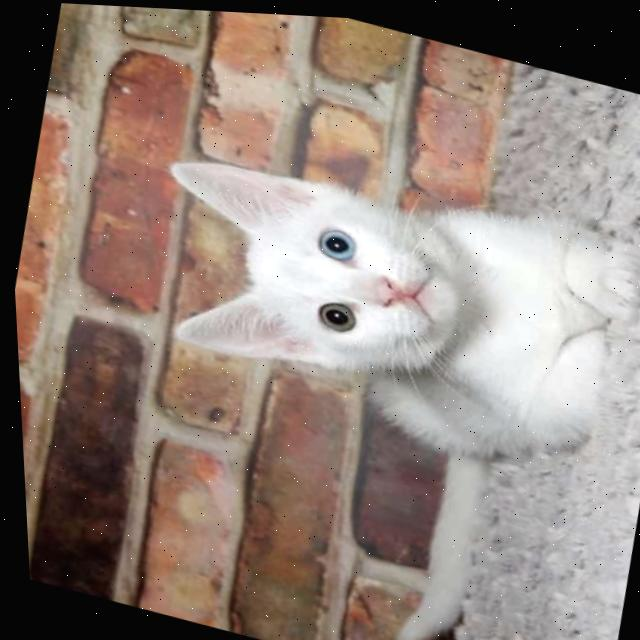Khao Manee: (71, 106, 640, 640)
